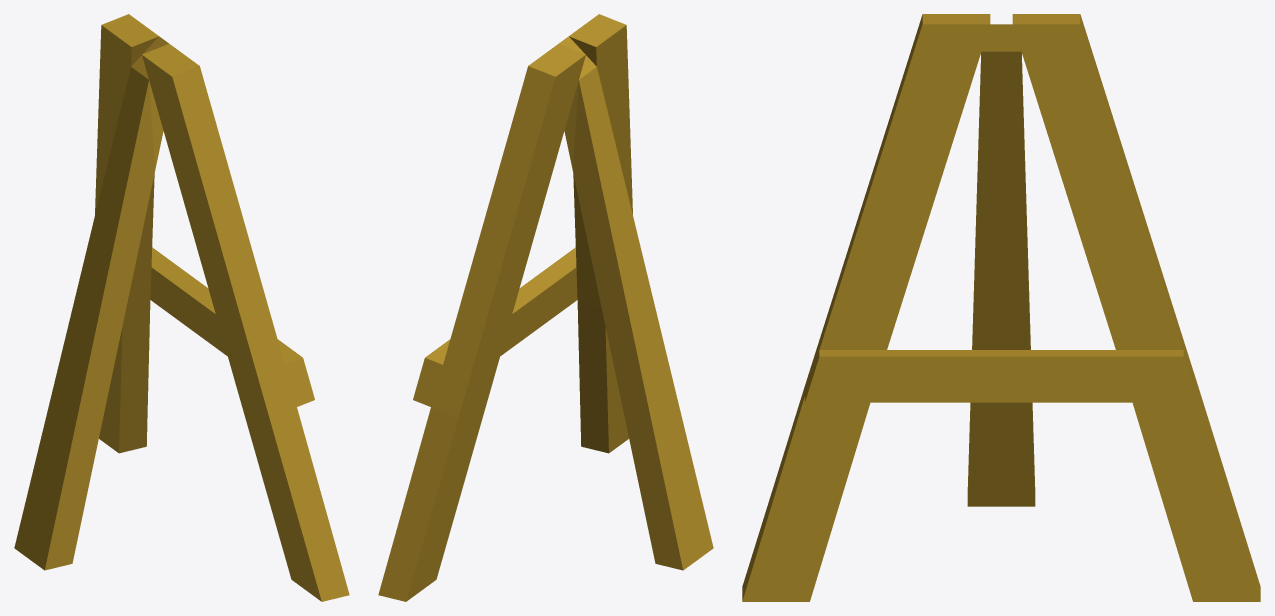
File: Easel.fbx
The picture shows the model from 3 angles, left to right: view 1: azimuth 30°, elevation 25°; view 2: azimuth 150°, elevation 25°; view 3: azimuth 270°, elevation 25°; orthographic projection. The views are drawn at different scales.
Visible parts, largest first — view 1: Plane; view 2: Plane; view 3: Plane.
Part boxes in pixels (x1=…): Plane: x1=14, y1=14, x2=349, y2=601; Plane: x1=378, y1=14, x2=713, y2=601; Plane: x1=742, y1=14, x2=1260, y2=601.
Bounding box in the file's own units: 116 × 265 × 230.
